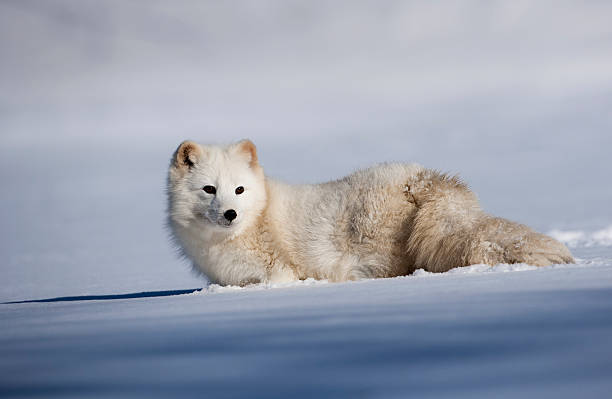arcticfox: (180, 147, 262, 242)
